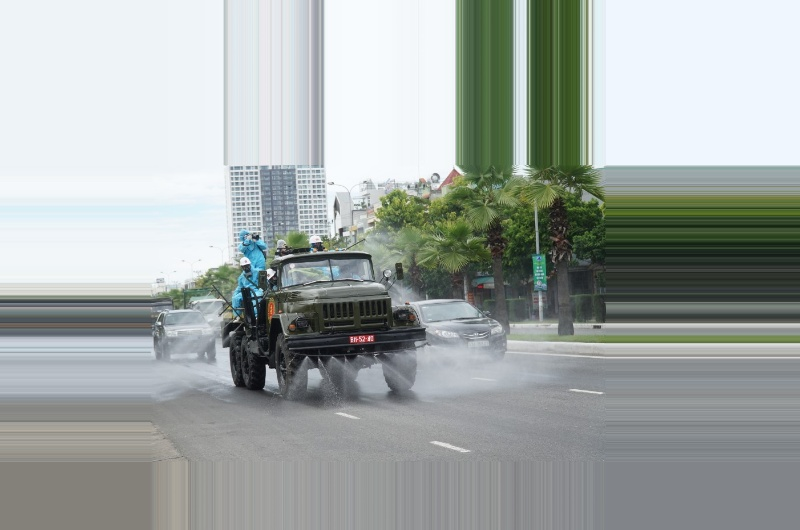plate: (464, 340, 496, 353), (347, 333, 378, 345)
